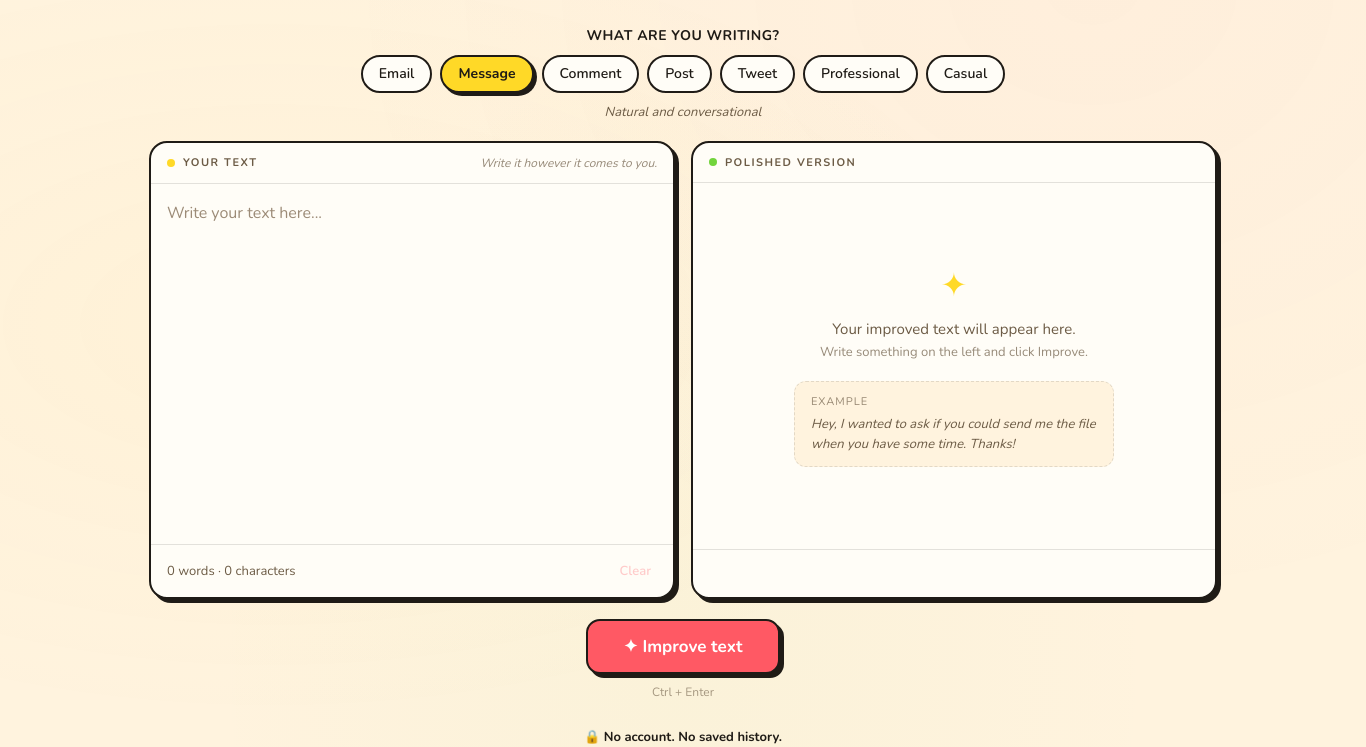
Page Component › clear button clears the input
(page scrolled)
Type "rough text" into the text box with placeholder "Write your text here..." at (412, 364), box [151,184,673,544]
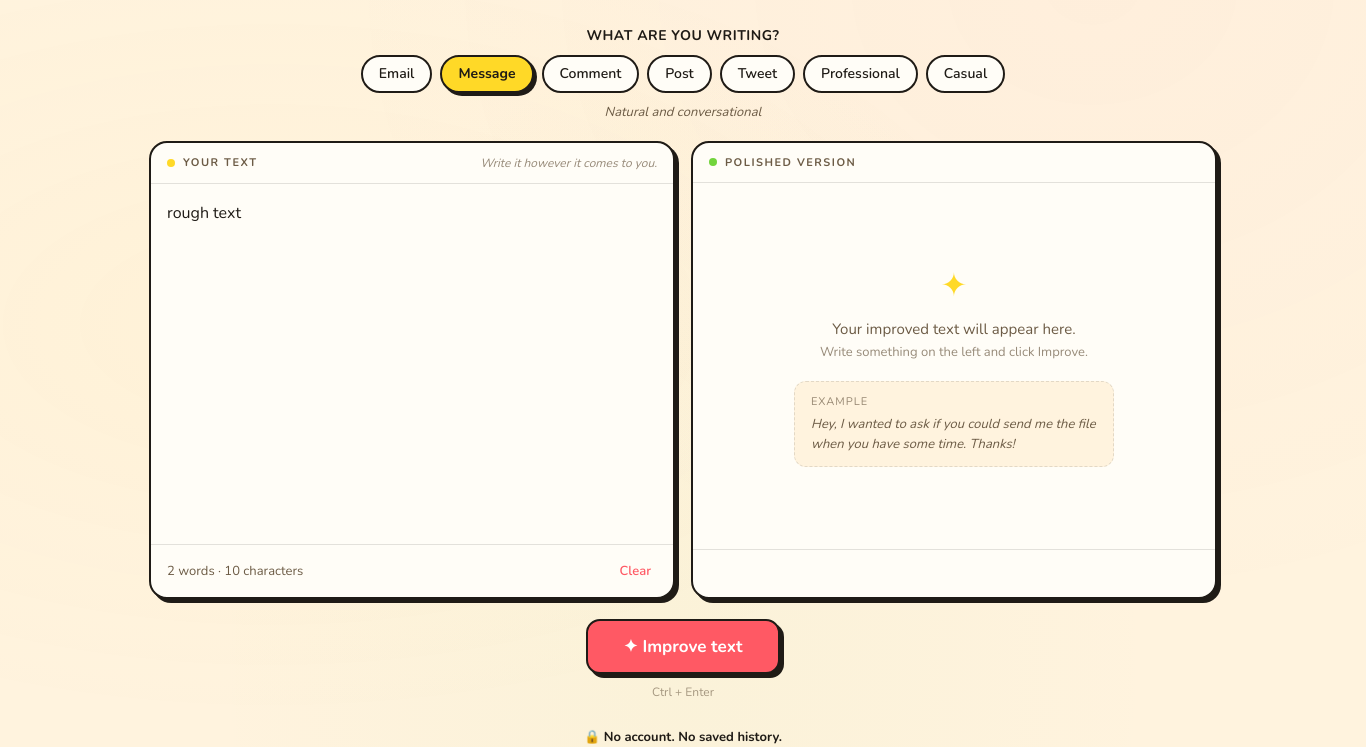
Click the button "Clear" at (635, 571), box [614,555,657,587]
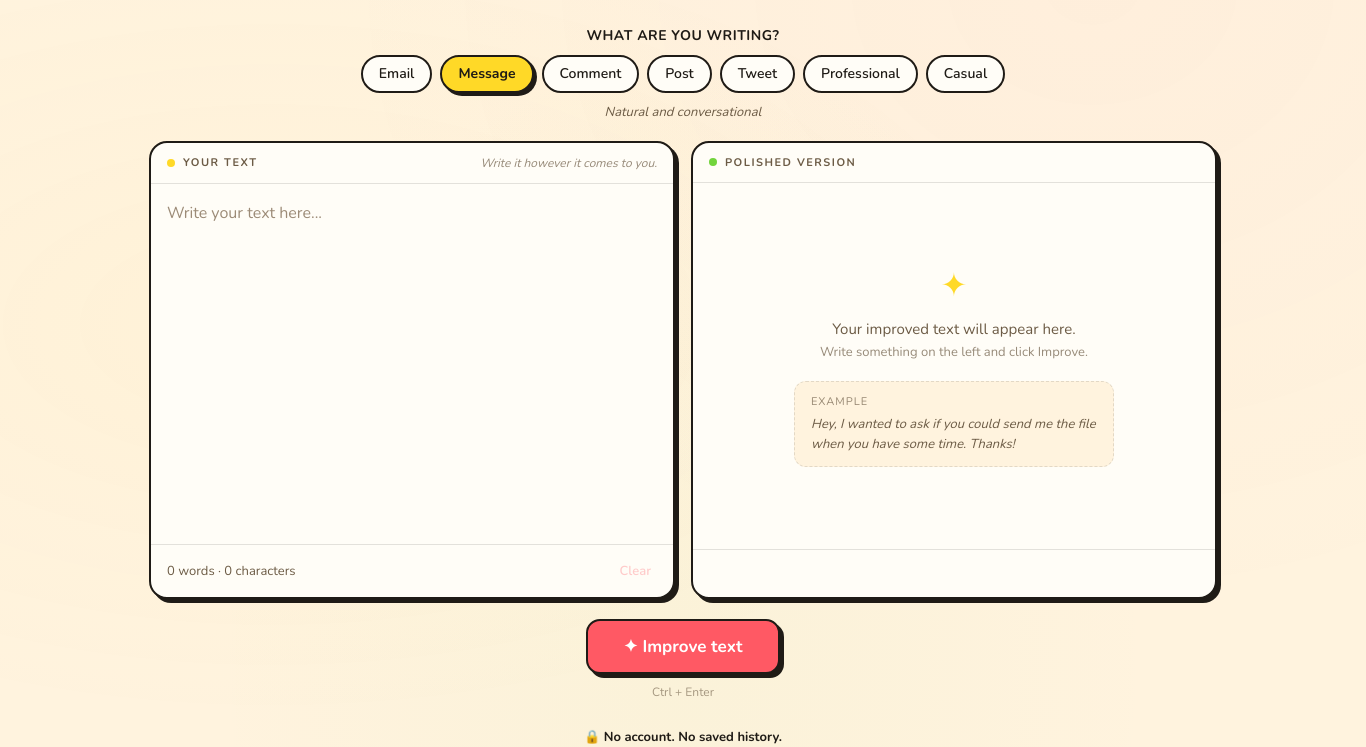
Expected: the text box with placeholder "Write your text here..." is empty, [151,184,673,544]
